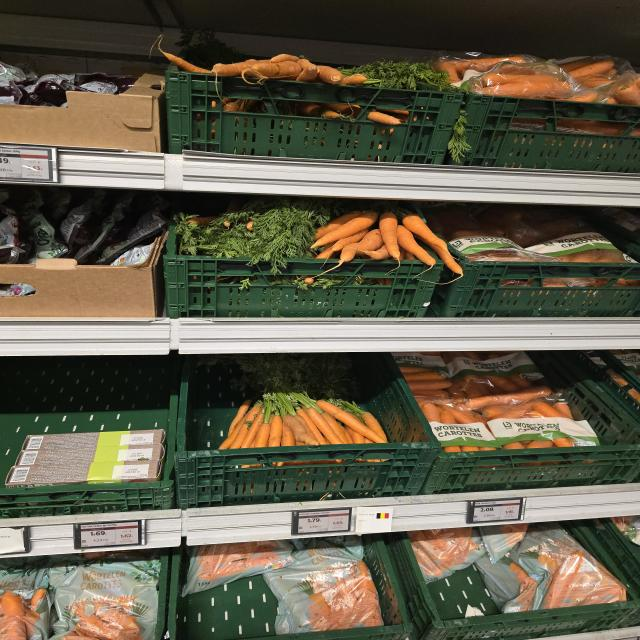Carrot: (403, 214, 463, 277), (316, 400, 386, 443), (310, 210, 379, 249), (464, 386, 554, 410), (397, 225, 435, 266), (338, 229, 383, 263), (230, 403, 262, 449), (305, 408, 343, 444), (379, 212, 401, 262), (282, 415, 318, 445), (241, 412, 265, 448), (406, 379, 452, 390), (267, 415, 282, 447), (254, 423, 270, 447)
